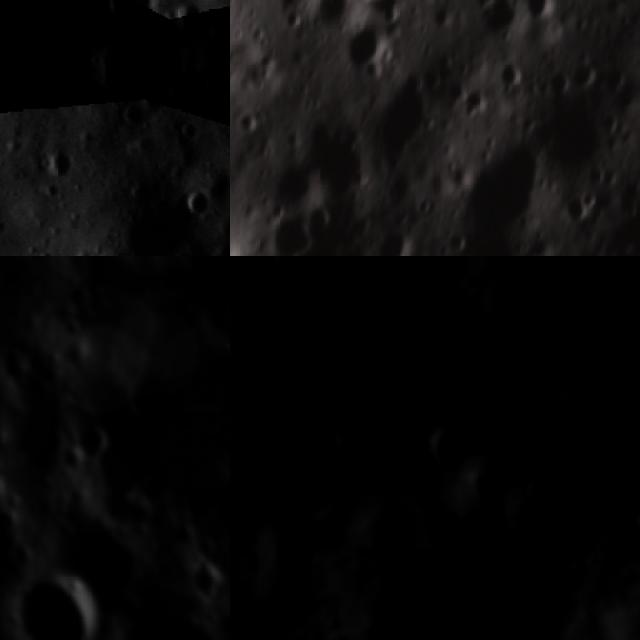crater: (78, 21, 192, 136), (82, 164, 213, 256), (452, 133, 554, 245), (2, 561, 105, 640), (547, 101, 619, 173), (88, 0, 174, 46), (336, 15, 402, 74), (175, 546, 227, 606), (304, 296, 370, 340), (60, 417, 111, 465), (263, 213, 317, 256), (174, 0, 225, 43), (36, 143, 78, 188), (369, 222, 423, 256), (329, 422, 375, 461), (182, 182, 224, 224), (432, 426, 465, 469), (461, 81, 497, 117), (231, 101, 267, 136), (567, 56, 603, 90), (442, 73, 473, 107), (605, 368, 636, 402), (444, 226, 476, 255), (498, 54, 528, 84), (230, 256, 263, 282), (522, 0, 563, 20), (549, 67, 575, 96), (581, 184, 605, 210), (423, 65, 443, 92), (385, 368, 410, 387), (468, 278, 486, 300), (628, 506, 640, 537), (633, 428, 640, 460)
